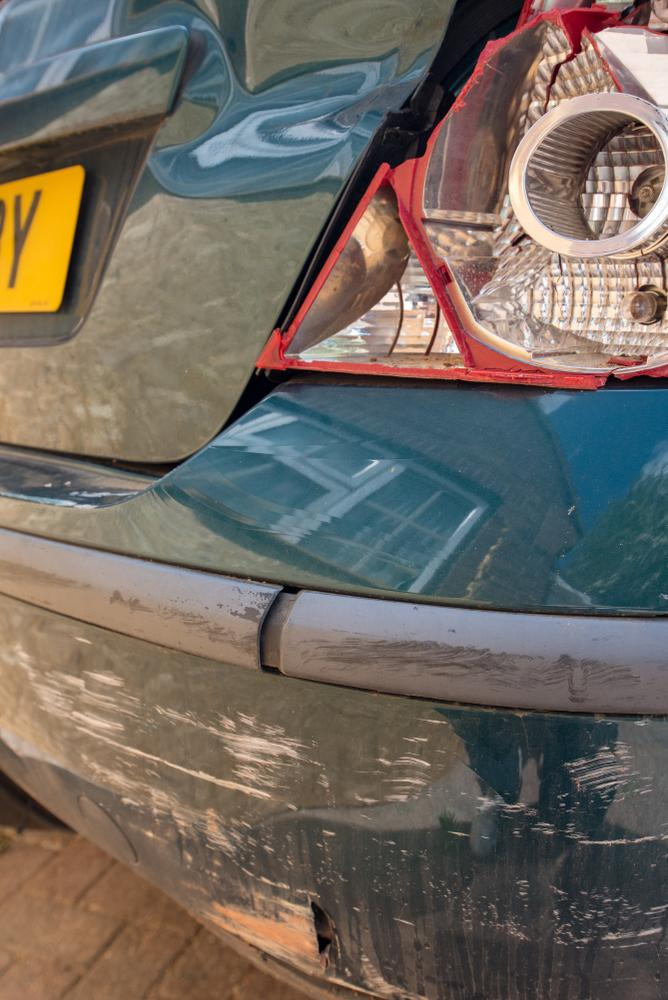crack: (311, 902, 333, 973)
dent: (153, 0, 455, 201)
lamp broken: (255, 0, 668, 388)
scratch: (0, 612, 668, 956), (0, 554, 267, 645), (294, 633, 646, 698)
